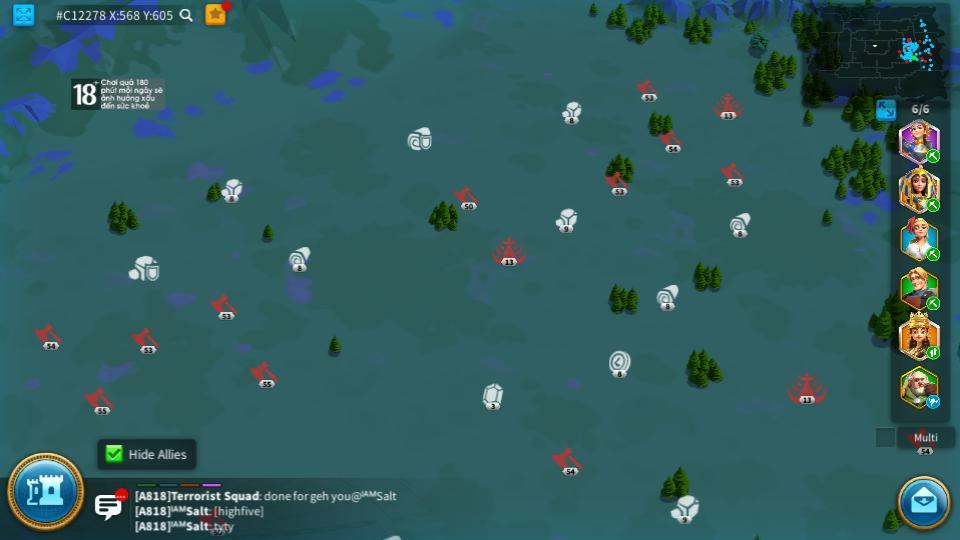gem-z-out: (481, 383, 503, 409)
march_farming: (925, 197, 941, 212), (925, 149, 941, 162)
march_idle: (925, 396, 942, 408)
march_marching: (925, 347, 941, 359), (925, 297, 941, 308)
